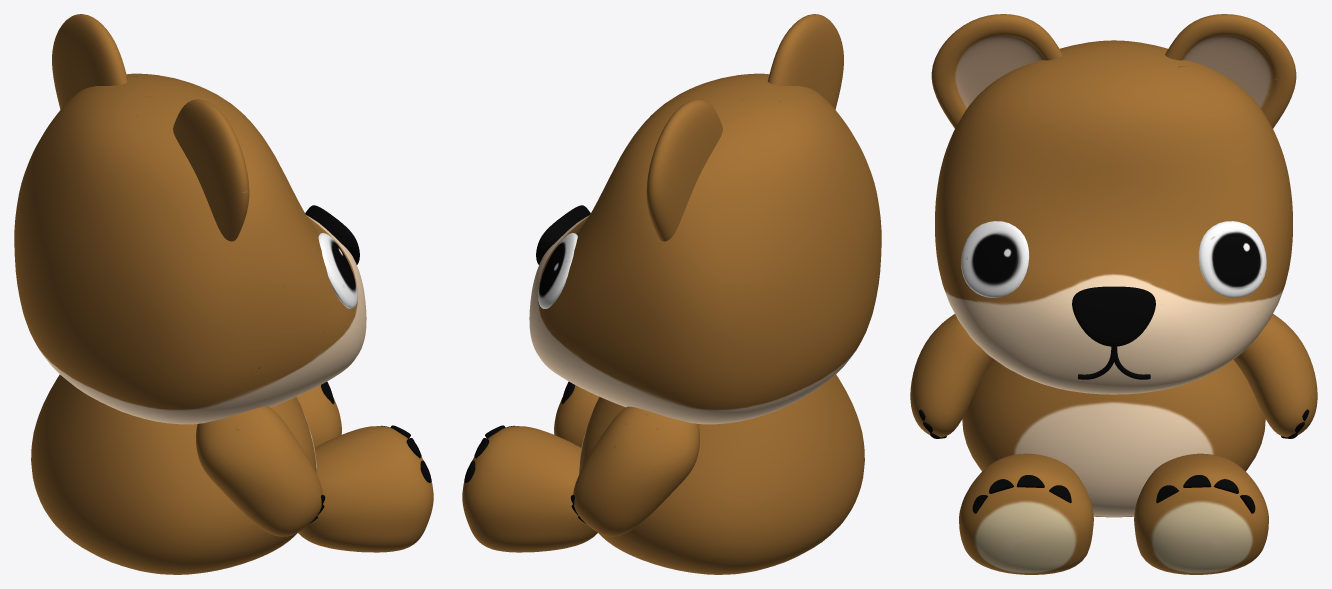
Rendered from bear.obj.
3 views of the same model, side by side, from view 1: azimuth 30°, elevation 25°; view 2: azimuth 150°, elevation 25°; view 3: azimuth 270°, elevation 25° (orthographic). The views are drawn at different scales.
Parts seen in each view (by area): view 1: Bear001; view 2: Bear001; view 3: Bear001.
Boxes of the visible parts, bbox=[...] form: Bear001: bbox=[14, 14, 433, 574]; Bear001: bbox=[462, 14, 881, 574]; Bear001: bbox=[910, 14, 1317, 574].
Size of the model in its own units: 0.3549 by 0.5154 by 0.4043.
